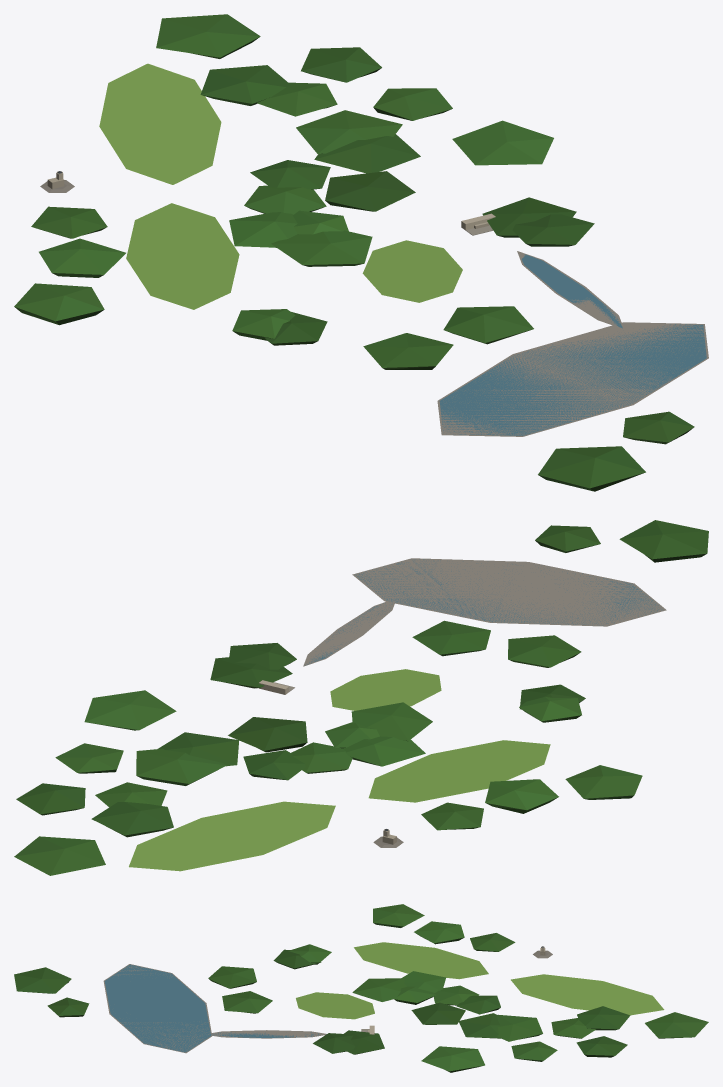
The picture shows the model from 3 angles, top to bottom: view 1: azimuth 30°, elevation 25°; view 2: azimuth 150°, elevation 25°; view 3: azimuth 270°, elevation 25°; orthographic projection. The views are drawn at different scales.
Parts seen in each view (by area): view 1: prospect-park-lod3; view 2: prospect-park-lod3; view 3: prospect-park-lod3.
Part boxes in pixels (<box>): prospect-park-lod3: <box>14,14,708,491</box>; prospect-park-lod3: <box>14,520,708,875</box>; prospect-park-lod3: <box>14,904,708,1072</box>.
Size of the model in its own units: 1528 by 37.84 by 2695.
